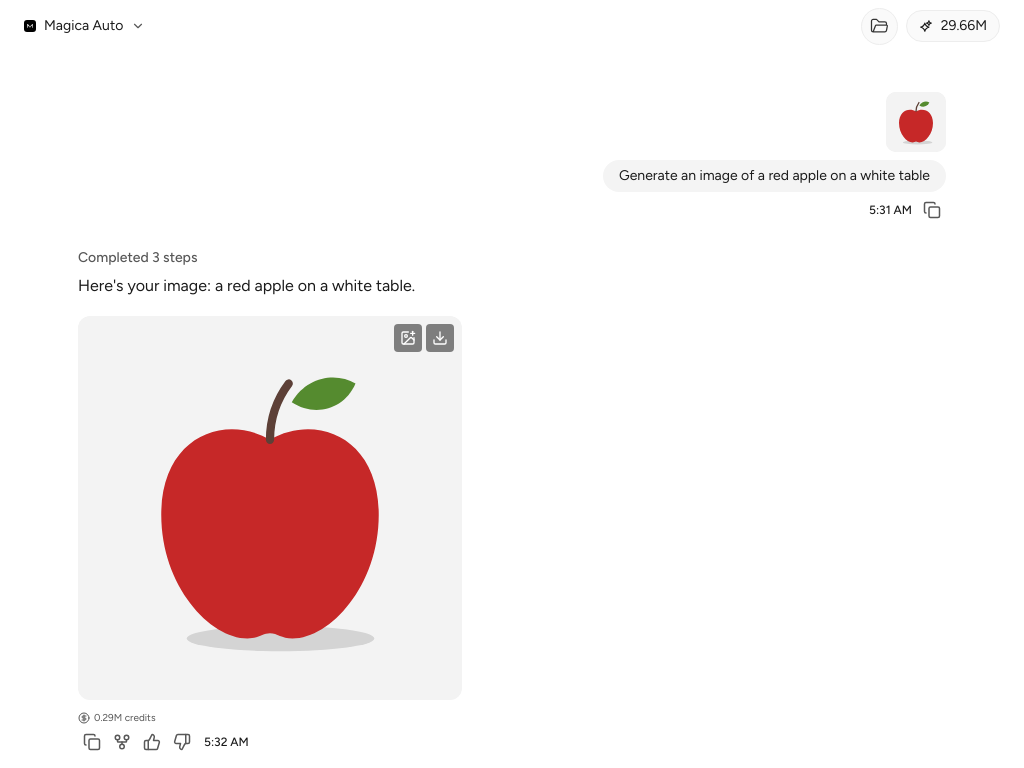
Test: where a file came from › opens an uploaded file from a message as uploaded
The width and height of the screenshot is (1024, 768).
Click the button named "Open beach.jpg" at {"x": 916, "y": 122}, box left=886, top=92, right=946, bottom=152
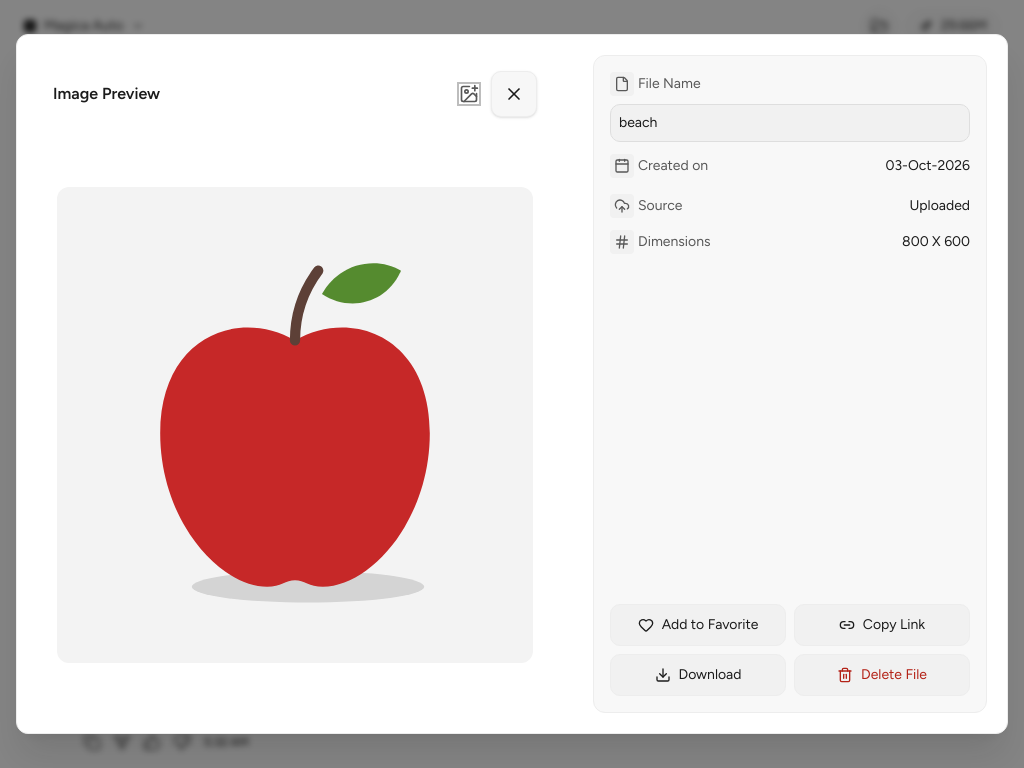
Expected: the text "Uploaded" is shown, left=909, top=196, right=970, bottom=216
